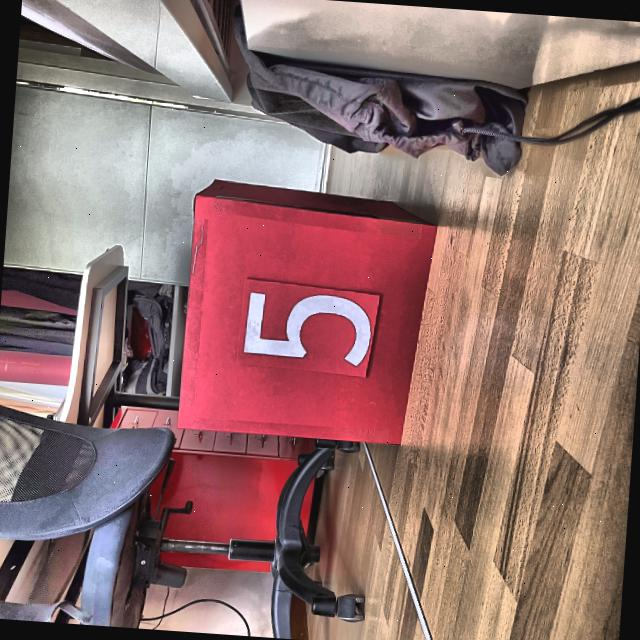five: (240, 288, 376, 370)
red box: (176, 174, 438, 452)
